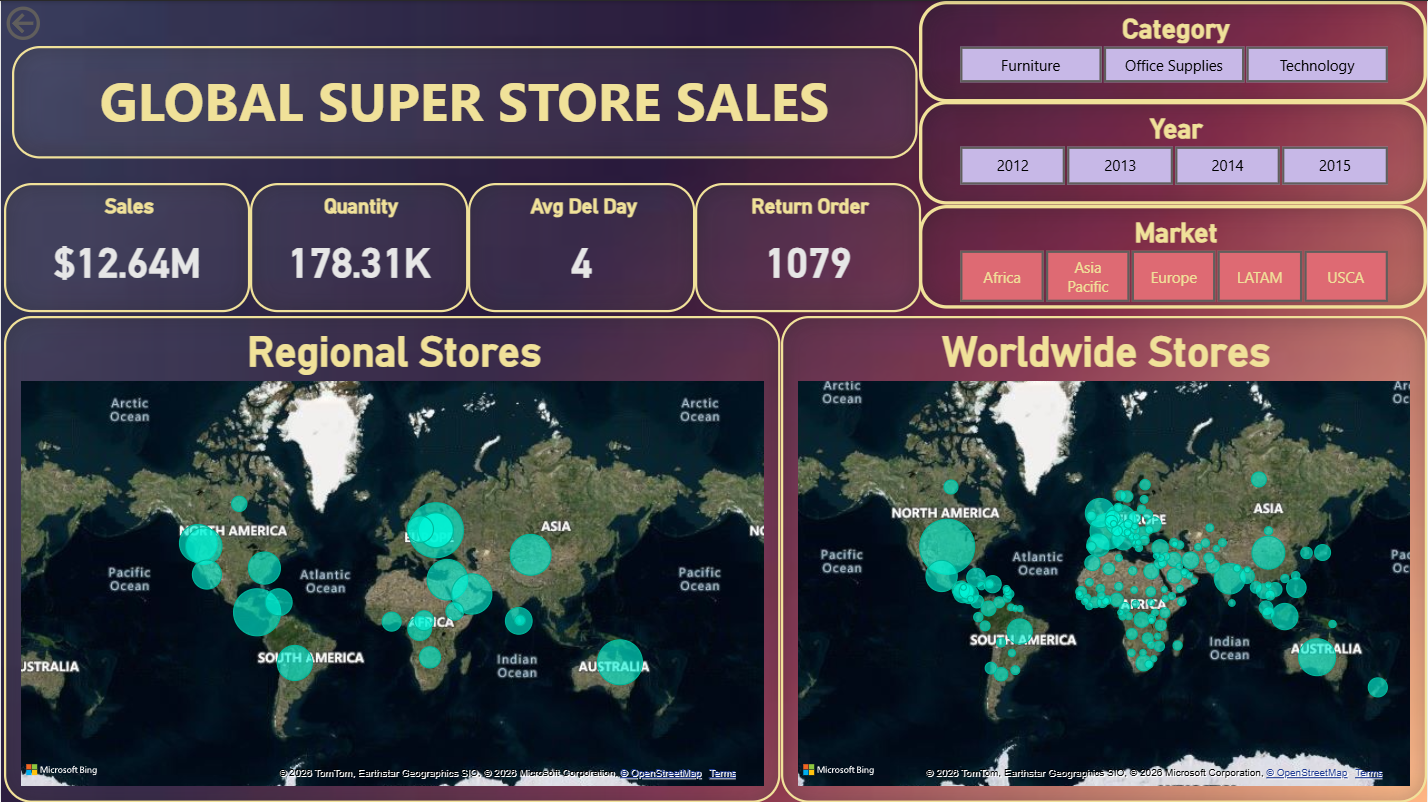

What the dashboard file says about the page in this screenshot:
{"tool":"powerbi","page":{"name":"Main Dashboard","canvas":[1280,720],"ordinal":0},"visuals":[{"type":"card","title":"Sales","fields":{"Values":["Sum(Orders.Sales)"]},"box":[2.4,163.1,221.1,116.2],"z":0},{"type":"card","title":"Quantity","fields":{"Values":["Sum(Orders.Quantity)"]},"box":[223.5,163.1,195.6,116.2],"z":1000},{"type":"card","title":"Avg Del Day","fields":{"Values":["Avg(Orders.Delivery_Days)"]},"box":[419.1,163.1,204.1,116.2],"z":2000},{"type":"slicer","title":"Year","fields":{"Values":["Orders.Year"]},"box":[824.3,90,455.7,92.9],"z":3000},{"type":"card","title":"Return Order","fields":{"Values":["Sum(Returns.Returned_Orders)"]},"box":[623.2,163.1,202.7,116.2],"z":4000},{"type":"map","title":"Worldwide Stores","fields":{"Category":["Orders.Country"],"Size":["Sum(Orders.Sales)"]},"box":[700,282.9,580,437.1],"z":5000},{"type":"actionButton","box":[0,0,100,40],"z":6000},{"type":"textbox","box":[10,40,812.5,101.2],"z":7000},{"type":"map","title":"Regional Stores","fields":{"Category":["Orders.Region"],"Size":["Sum(Orders.Sales)"]},"box":[2.9,282.9,697.1,437.1],"z":8000},{"type":"slicer","title":"Category","fields":{"Values":["Orders.Category"]},"box":[824.3,0,455.7,91.4],"z":9000},{"type":"slicer","title":"Market","fields":{"Values":["Orders.Market"]},"box":[824.3,182.9,455.7,92.9],"z":10000}]}

Visuals, with their boxes in screenshot pixels (x1, y1, x2, y2), scaled from the page's 1280x720 canvas onto the 1428x802 screenshot:
"Sales" card: (3,182,249,311)
"Quantity" card: (249,182,468,311)
"Avg Del Day" card: (468,182,695,311)
"Year" slicer: (920,100,1427,204)
"Return Order" card: (695,182,921,311)
"Worldwide Stores" map: (781,315,1427,801)
actionButton: (0,0,112,45)
textbox: (11,45,918,157)
"Regional Stores" map: (3,315,781,801)
"Category" slicer: (920,0,1427,102)
"Market" slicer: (920,204,1427,307)
